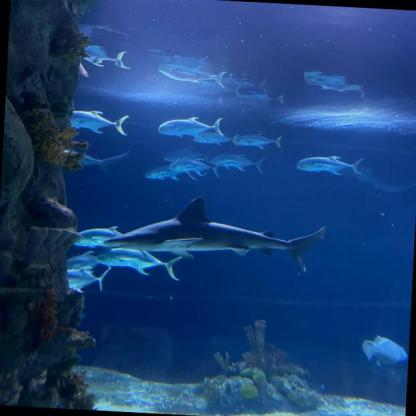fish: (90, 246, 184, 282), (155, 112, 228, 143), (292, 152, 370, 180), (60, 109, 130, 136), (207, 151, 272, 179), (61, 262, 113, 296), (360, 333, 408, 369), (158, 63, 226, 88), (70, 223, 130, 250), (166, 156, 222, 183), (228, 128, 288, 152), (66, 249, 112, 276), (77, 46, 128, 69), (140, 162, 184, 186)
shark: (103, 190, 327, 274), (44, 145, 130, 173)
